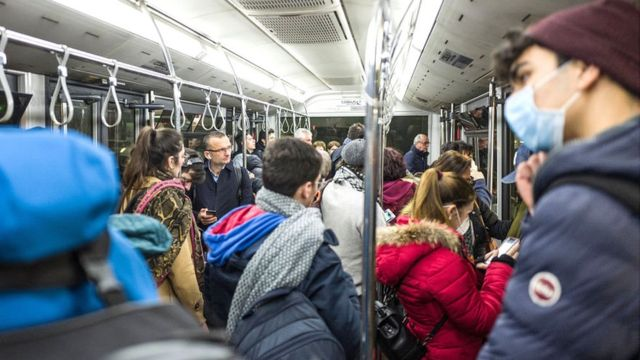with_mask: (504, 61, 579, 148)
without_mask: (208, 138, 231, 165)
